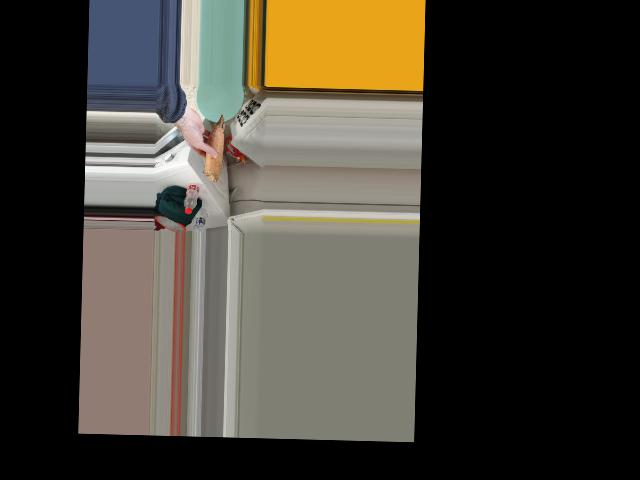sweet_potato: (203, 114, 230, 179)
